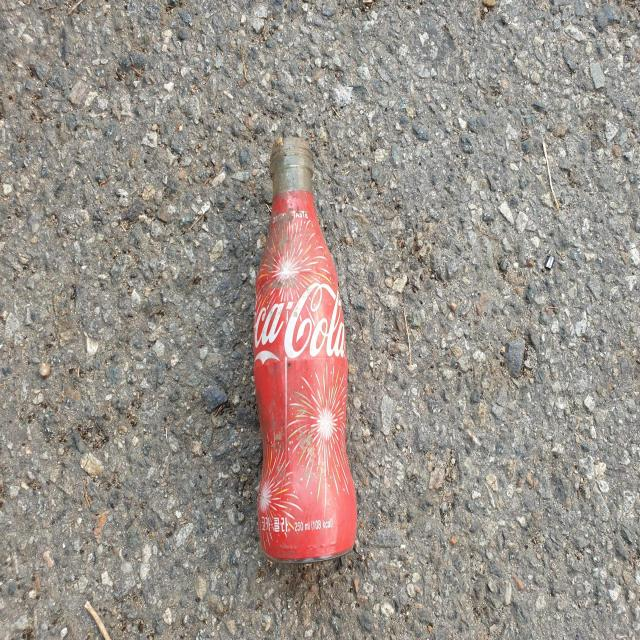glass: (254, 136, 357, 563)
